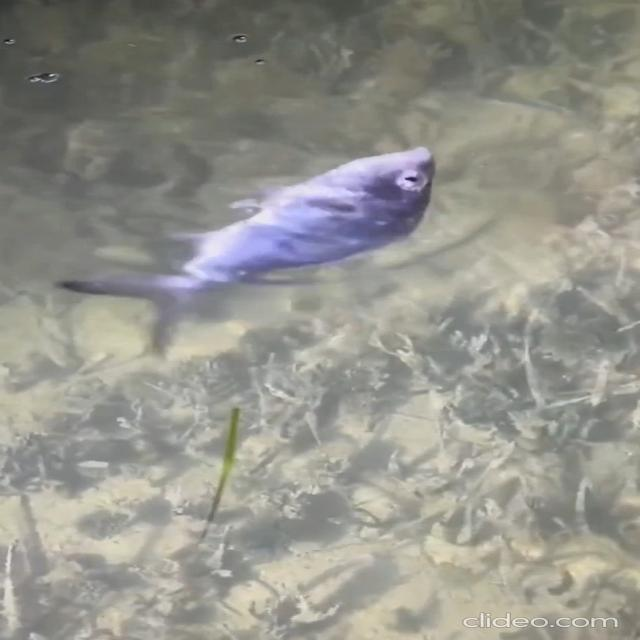fish: (56, 144, 472, 336)
